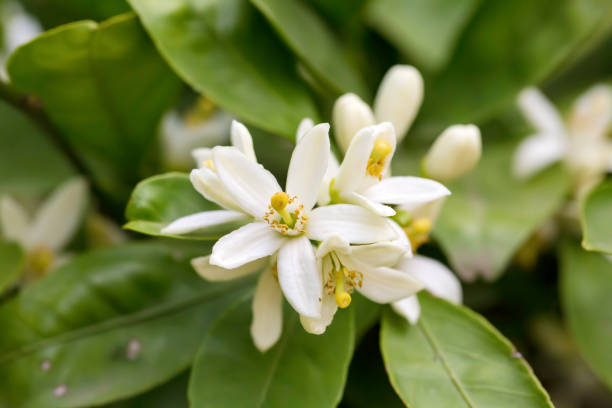flower: (188, 123, 389, 316), (328, 115, 458, 222), (298, 228, 425, 336), (519, 87, 612, 193)
